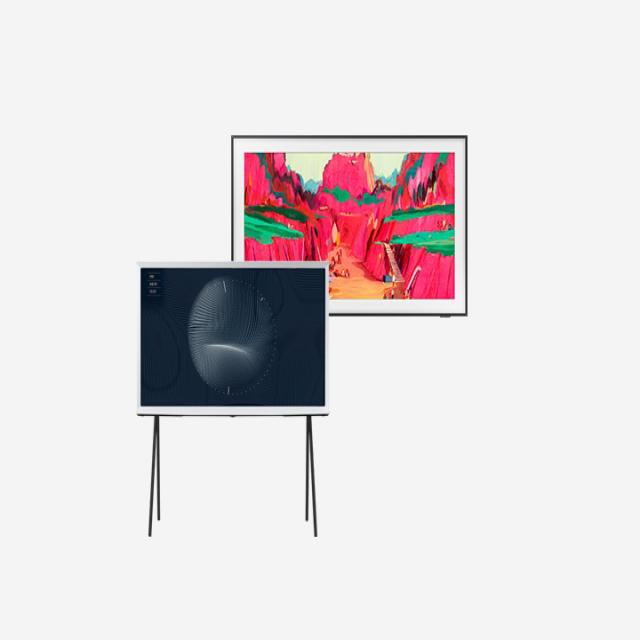electronics: (232, 134, 466, 313), (139, 262, 326, 414)
